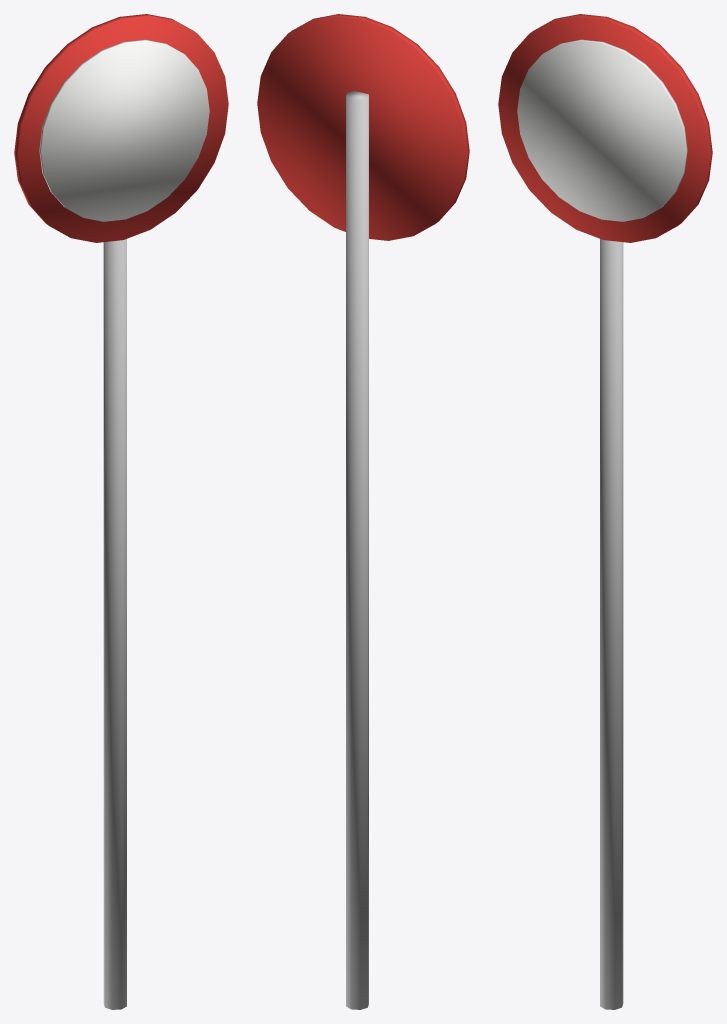
Rendered from life_sign.glb.
The picture shows the model from 3 angles, left to right: view 1: azimuth 30°, elevation 25°; view 2: azimuth 150°, elevation 25°; view 3: azimuth 330°, elevation 25°; orthographic projection.
Parts seen in each view (by area): view 1: Pole; view 2: Pole; view 3: Pole.
Part boxes in pixels (bbox=[...]): Pole: bbox=[14, 14, 228, 1009]; Pole: bbox=[257, 14, 469, 1009]; Pole: bbox=[498, 14, 712, 1009].
Size of the model in its own units: 0.6 by 2.7 by 0.08.
